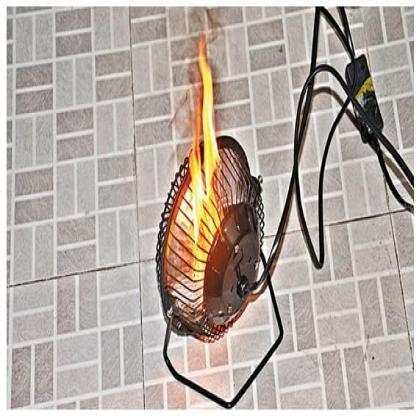fire: (196, 41, 218, 176), (188, 155, 204, 238), (202, 189, 218, 244)
